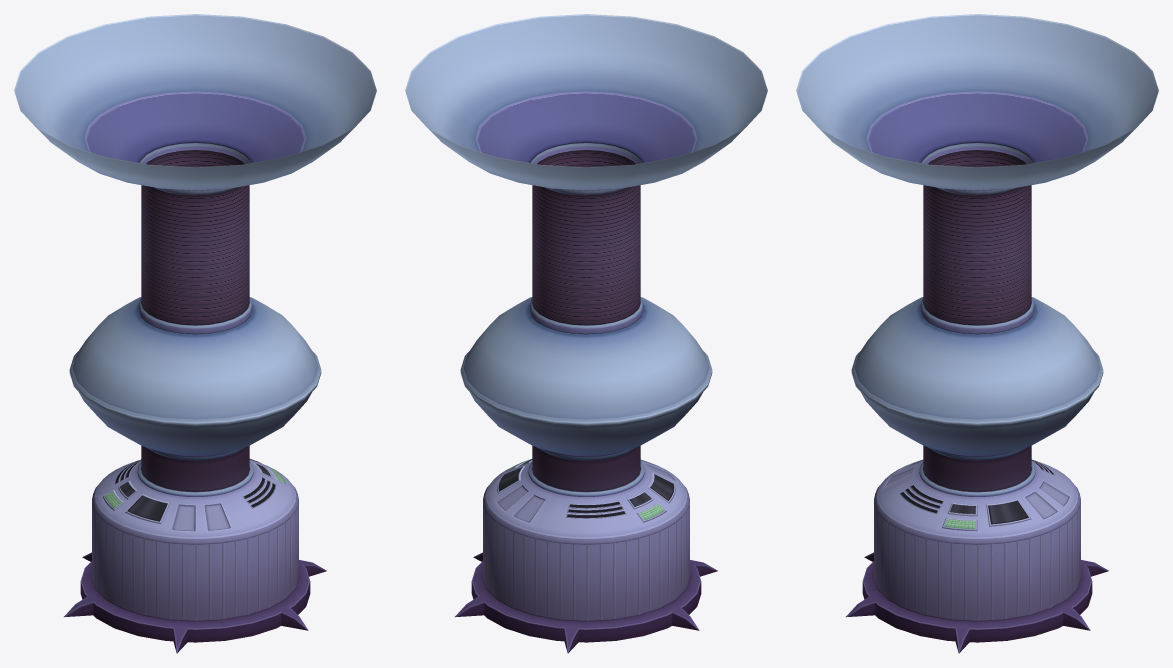
File: zhonglishi_zhuzi02.FBX
3 views of the same model, side by side, from view 1: azimuth 30°, elevation 25°; view 2: azimuth 150°, elevation 25°; view 3: azimuth 270°, elevation 25° (orthographic).
Visible parts, largest first — view 1: zhonglishi_zhuzi; view 2: zhonglishi_zhuzi; view 3: zhonglishi_zhuzi.
Boxes of the visible parts, x1,y1,x2,y2 form: zhonglishi_zhuzi: (14,14,376,653); zhonglishi_zhuzi: (405,14,767,653); zhonglishi_zhuzi: (796,14,1158,653).
Bounding box in the file's own units: 334 × 511 × 334.
